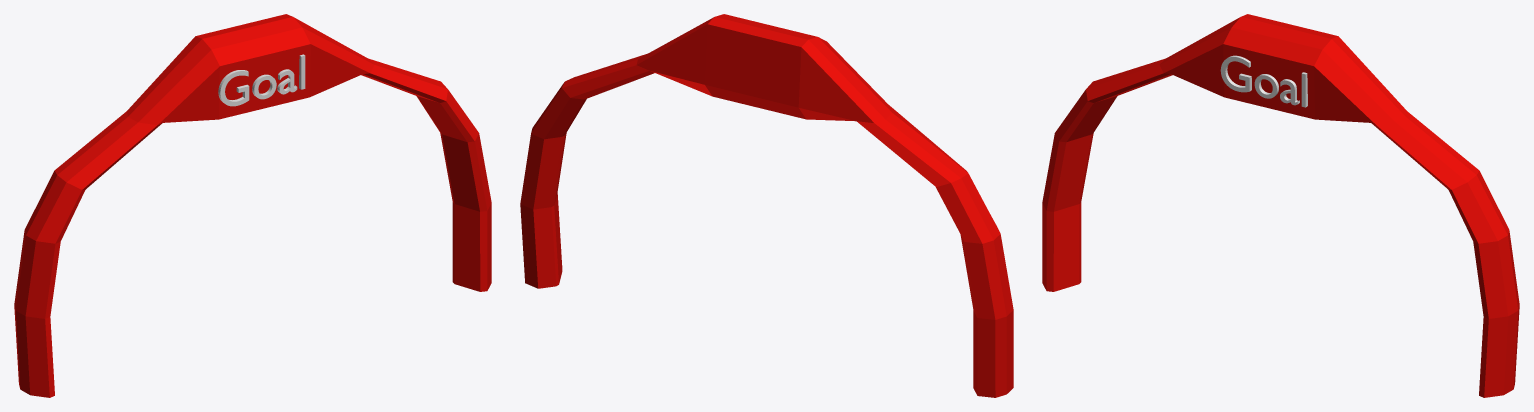
The model's file is Goal.fbx.
3 views of the same model, side by side, from view 1: azimuth 30°, elevation 25°; view 2: azimuth 150°, elevation 25°; view 3: azimuth 330°, elevation 25° (orthographic). The views are drawn at different scales.
Parts seen in each view (by area): view 1: Cube; view 2: Cube; view 3: Cube.
Part boxes in pixels (x1,y1,x2,y2): Cube: (14, 14, 491, 397); Cube: (520, 14, 1013, 397); Cube: (1042, 14, 1519, 397).
Bounding box in the file's own units: 3660 × 2246 × 411.
